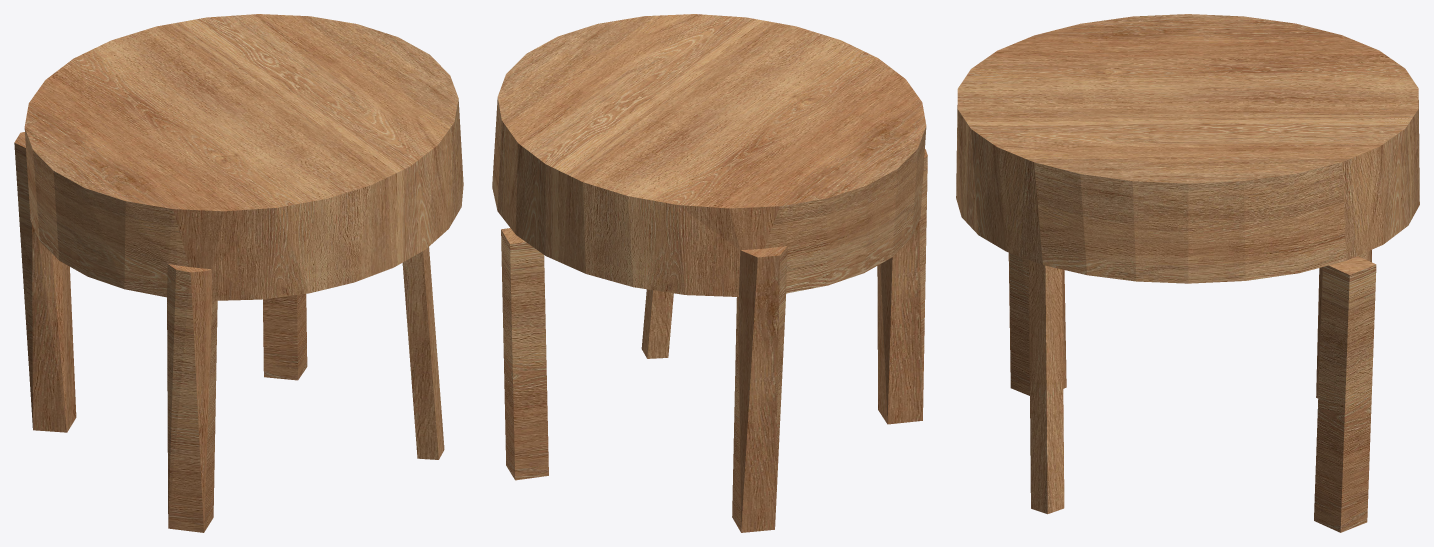
File: 31105_ours.glb
The picture shows the model from 3 angles, left to right: view 1: azimuth 30°, elevation 25°; view 2: azimuth 150°, elevation 25°; view 3: azimuth 270°, elevation 25°; orthographic projection. The views are drawn at different scales.
Parts seen in each view (by area): view 1: ParentEmpty; view 2: ParentEmpty; view 3: ParentEmpty.
Boxes of the visible parts, left/top/right/bottom form: ParentEmpty: left=14, top=14, right=463, bottom=532; ParentEmpty: left=492, top=14, right=927, bottom=532; ParentEmpty: left=956, top=14, right=1419, bottom=532.
Bounding box in the file's own units: 1 × 0.8838 × 0.9863.
1 material, 1 textured.
